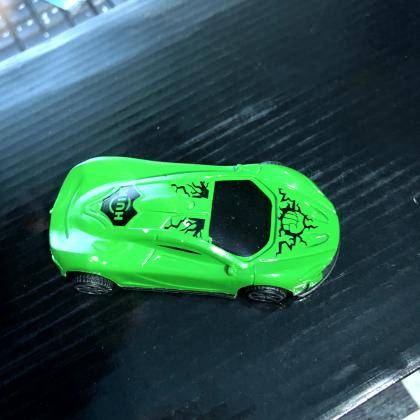Car: (48, 157, 341, 306)
